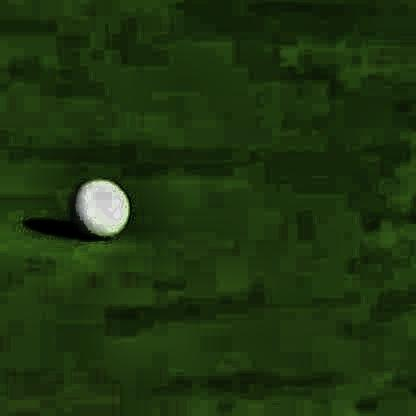golfball: (69, 170, 128, 235)
